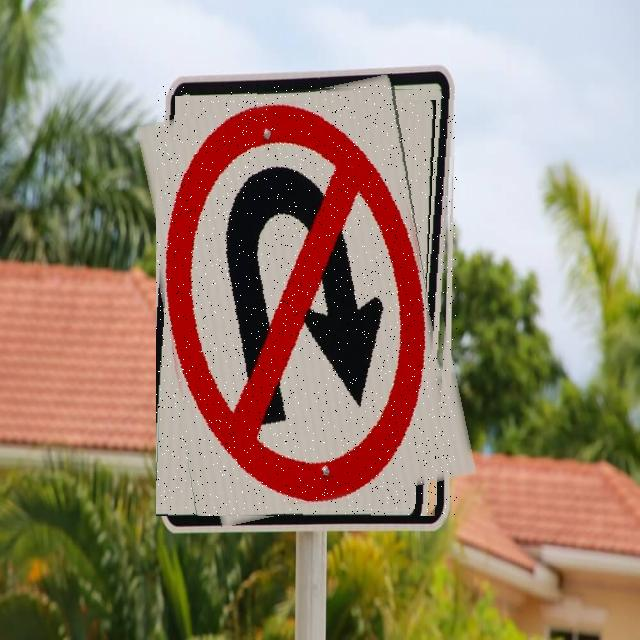no u turn: (156, 85, 457, 516)
